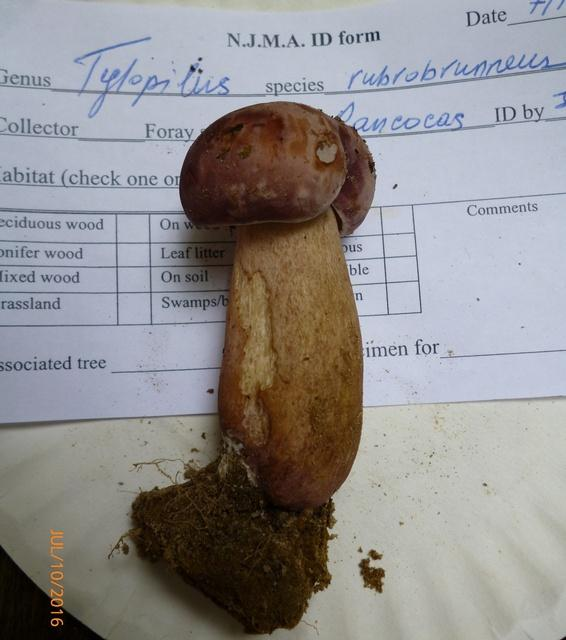Non-edible Mushroom: (177, 99, 377, 511)
